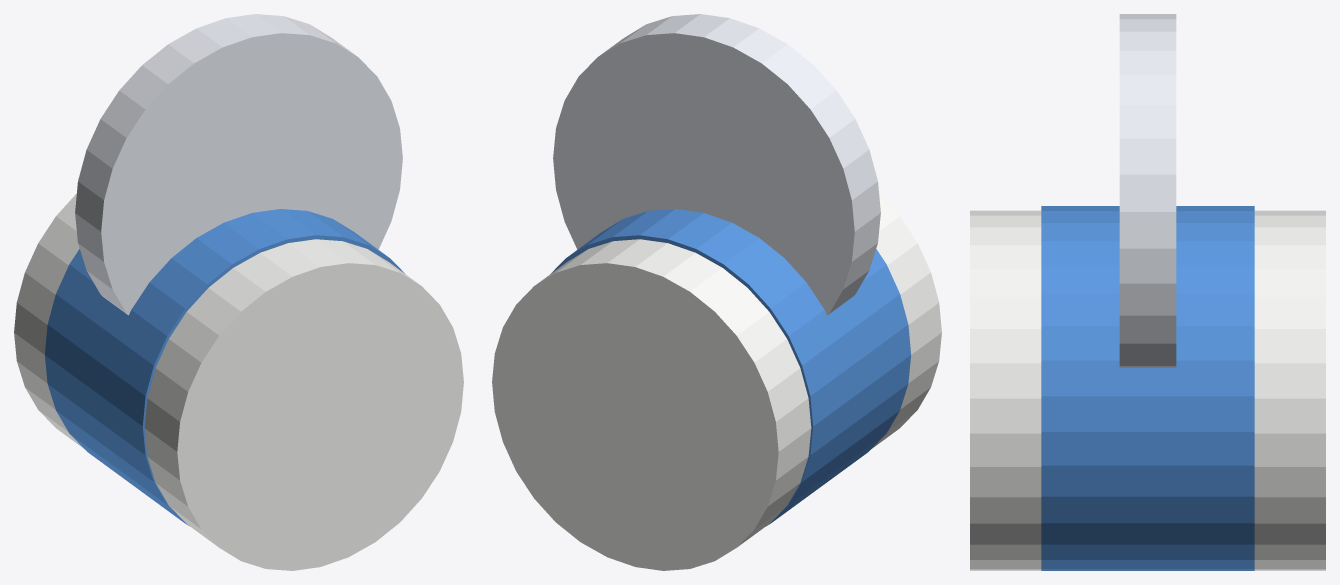
Rendered from yogurt-jar.glb.
The picture shows the model from 3 angles, left to right: view 1: azimuth 30°, elevation 25°; view 2: azimuth 150°, elevation 25°; view 3: azimuth 270°, elevation 25°; orthographic projection. The views are drawn at different scales.
Visible parts, largest first — view 1: yogurt_body, yogurt_lid, yogurt_label; view 2: yogurt_body, yogurt_lid, yogurt_label; view 3: yogurt_label, yogurt_body, yogurt_lid.
Boxes of the visible parts, x1=… form: yogurt_body: x1=14, y1=193, x2=463, y2=570; yogurt_lid: x1=75, y1=14, x2=402, y2=315; yogurt_label: x1=44, y1=209, x2=404, y2=525; yogurt_body: x1=492, y1=193, x2=941, y2=570; yogurt_lid: x1=553, y1=14, x2=880, y2=315; yogurt_label: x1=551, y1=209, x2=911, y2=525; yogurt_label: x1=1041, y1=206, x2=1254, y2=570; yogurt_body: x1=970, y1=210, x2=1325, y2=570; yogurt_lid: x1=1119, y1=14, x2=1176, y2=367.
Bounding box in the file's own units: 0.08 × 0.1215 × 0.075.
